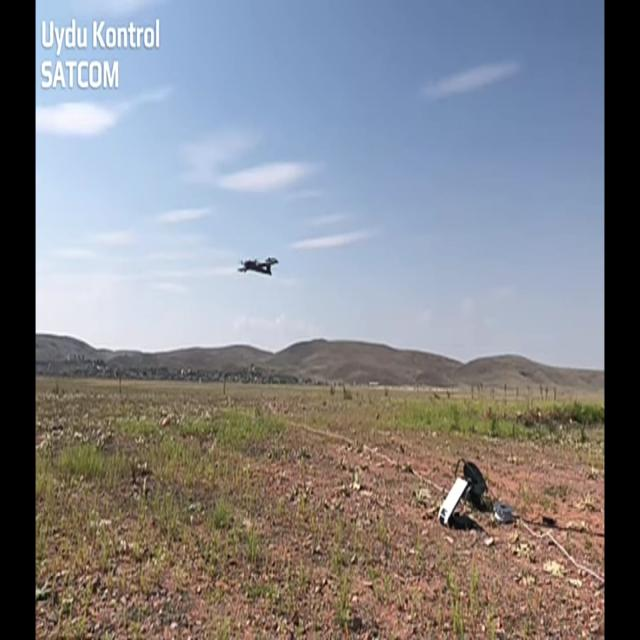iha: (237, 249, 279, 271)
